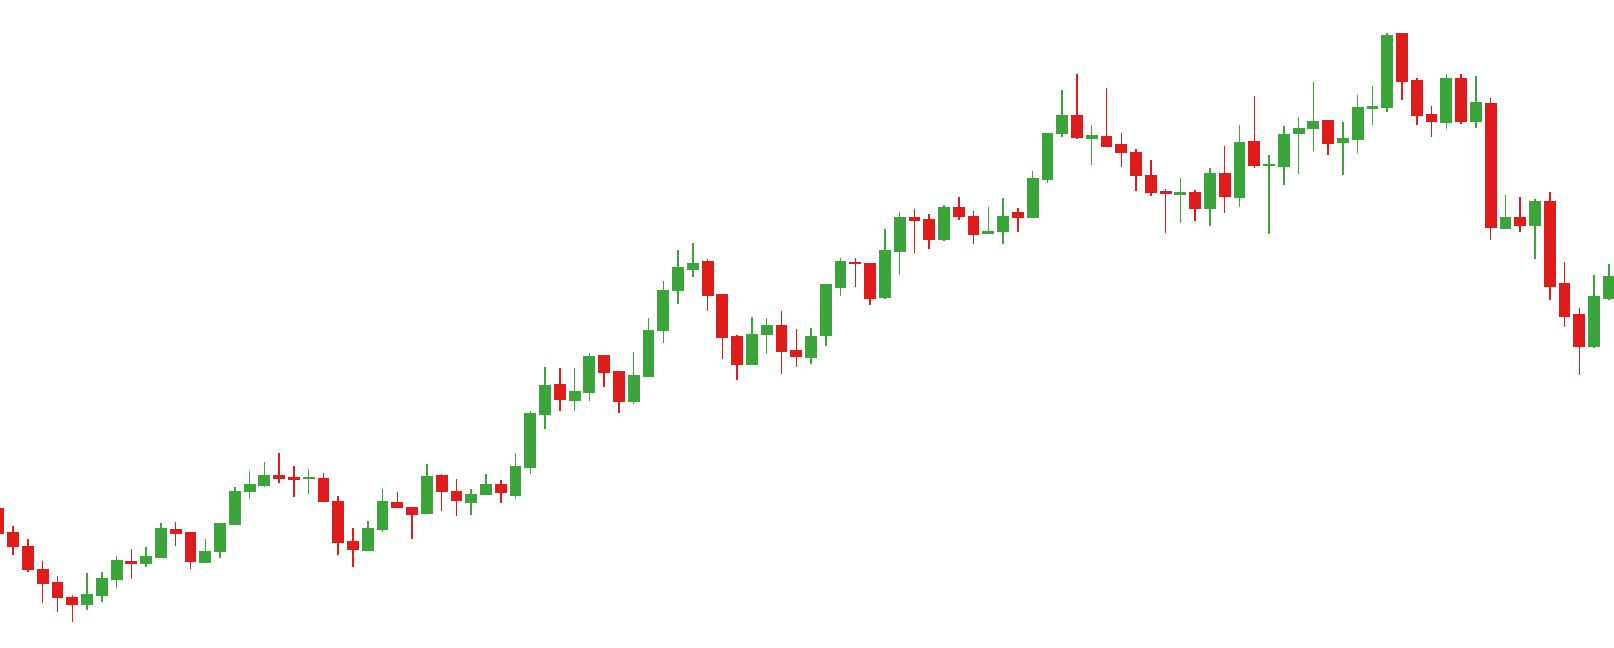sell: (1309, 34, 1411, 129)
